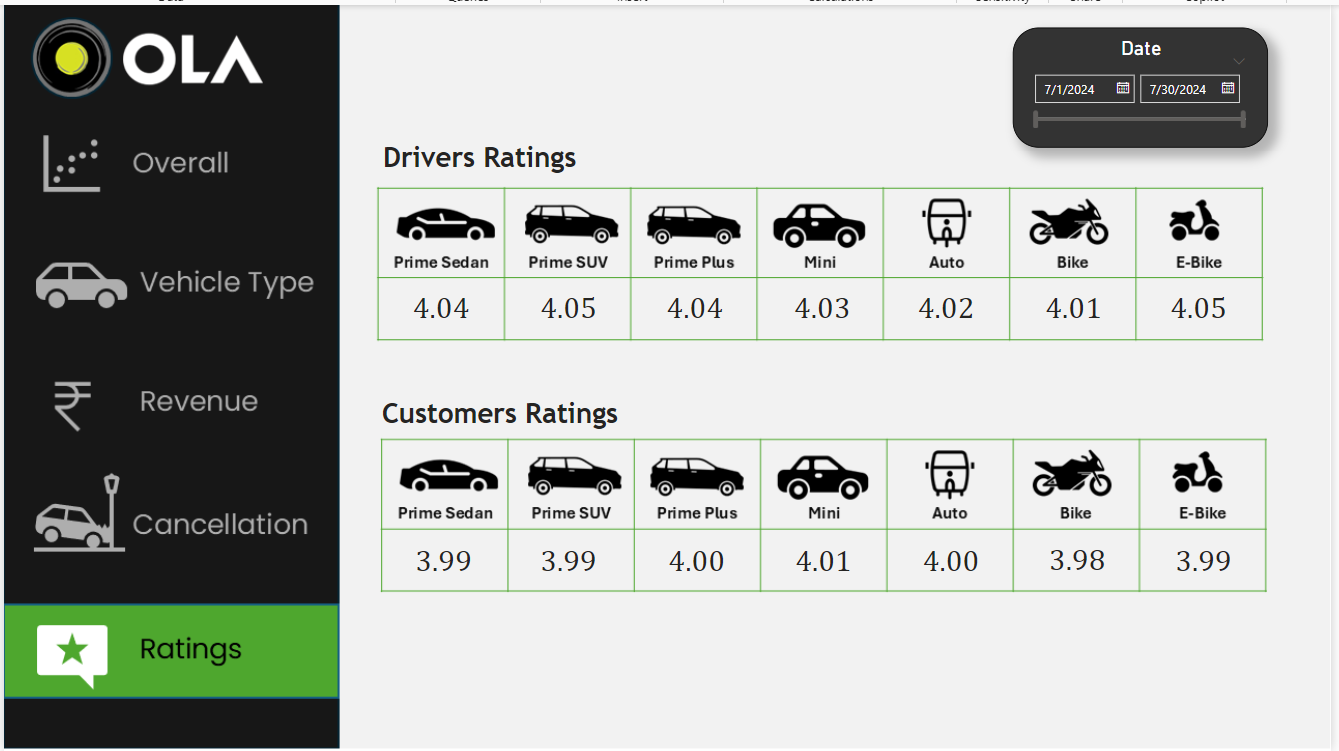

What the dashboard file says about the page in this screenshot:
{"tool":"powerbi","page":{"name":"Ratings","canvas":[1280,720],"ordinal":4},"visuals":[{"type":"actionButton","box":[0,111,324.5,90.5],"z":0},{"type":"actionButton","box":[0,220.8,324.5,90.5],"z":1000},{"type":"actionButton","box":[0,340.2,324.5,90.5],"z":2000},{"type":"actionButton","box":[0,445.2,324.5,90.5],"z":3000},{"type":"card","fields":{"Values":["Avg(Bookings.Driver_Ratings)"]},"box":[360.6,262.1,122.7,60.6],"z":4000},{"type":"card","fields":{"Values":["Avg(Bookings.Driver_Ratings)"]},"box":[483.3,262.1,122.7,60.6],"z":5000},{"type":"card","fields":{"Values":["Avg(Bookings.Driver_Ratings)"]},"box":[606.1,262.1,122.7,60.6],"z":6000},{"type":"card","fields":{"Values":["Avg(Bookings.Driver_Ratings)"]},"box":[728.8,262.1,122.7,60.6],"z":7000},{"type":"card","fields":{"Values":["Avg(Bookings.Driver_Ratings)"]},"box":[848.5,262.1,122.7,60.6],"z":8000},{"type":"card","fields":{"Values":["Avg(Bookings.Driver_Ratings)"]},"box":[971.2,262.1,122.7,60.6],"z":9000},{"type":"card","fields":{"Values":["Avg(Bookings.Driver_Ratings)"]},"box":[1092.4,262.1,122.7,60.6],"z":10000},{"type":"textbox","box":[360.6,127.3,245.5,57.6],"z":11000},{"type":"textbox","box":[360,373.8,263.8,45],"z":12000},{"type":"card","fields":{"Values":["Avg(Bookings.Customer_Rating)"]},"box":[363.6,506.1,122.7,60.6],"z":13000},{"type":"card","fields":{"Values":["Avg(Bookings.Customer_Rating)"]},"box":[484,505.5,122.6,60.7],"z":14000},{"type":"card","fields":{"Values":["Avg(Bookings.Customer_Rating)"]},"box":[606.6,505.5,123.9,60.7],"z":15000},{"type":"card","fields":{"Values":["Avg(Bookings.Customer_Rating)"]},"box":[730.5,505.5,122.6,60.7],"z":16000},{"type":"card","fields":{"Values":["Avg(Bookings.Customer_Rating)"]},"box":[853.1,505.5,122.6,60.7],"z":17000},{"type":"card","fields":{"Values":["Avg(Bookings.Customer_Rating)"]},"box":[974.4,504.3,122.6,60.7],"z":18000},{"type":"card","fields":{"Values":["Avg(Bookings.Customer_Rating)"]},"box":[1097,505.5,122.6,60.7],"z":19000},{"type":"slicer","title":"Date","fields":{"Values":["Bookings.Date"]},"box":[973.1,21.5,246.4,116.3],"z":20000}]}

Visuals, with their boxes on the page's 1280x720 design canvas (x1, y1, x2, y2). These are canvas units, not pixel positions in the 1339x751 screenshot, which may show the page scaled, cropped or inside an application window:
actionButton: box(0, 111, 324, 202)
actionButton: box(0, 221, 324, 311)
actionButton: box(0, 340, 324, 431)
actionButton: box(0, 445, 324, 536)
card - Avg(Bookings.Driver_Ratings): box(361, 262, 483, 323)
card - Avg(Bookings.Driver_Ratings): box(483, 262, 606, 323)
card - Avg(Bookings.Driver_Ratings): box(606, 262, 729, 323)
card - Avg(Bookings.Driver_Ratings): box(729, 262, 852, 323)
card - Avg(Bookings.Driver_Ratings): box(848, 262, 971, 323)
card - Avg(Bookings.Driver_Ratings): box(971, 262, 1094, 323)
card - Avg(Bookings.Driver_Ratings): box(1092, 262, 1215, 323)
textbox: box(361, 127, 606, 185)
textbox: box(360, 374, 624, 419)
card - Avg(Bookings.Customer_Rating): box(364, 506, 486, 567)
card - Avg(Bookings.Customer_Rating): box(484, 506, 607, 566)
card - Avg(Bookings.Customer_Rating): box(607, 506, 730, 566)
card - Avg(Bookings.Customer_Rating): box(730, 506, 853, 566)
card - Avg(Bookings.Customer_Rating): box(853, 506, 976, 566)
card - Avg(Bookings.Customer_Rating): box(974, 504, 1097, 565)
card - Avg(Bookings.Customer_Rating): box(1097, 506, 1220, 566)
"Date" slicer: box(973, 22, 1220, 138)
